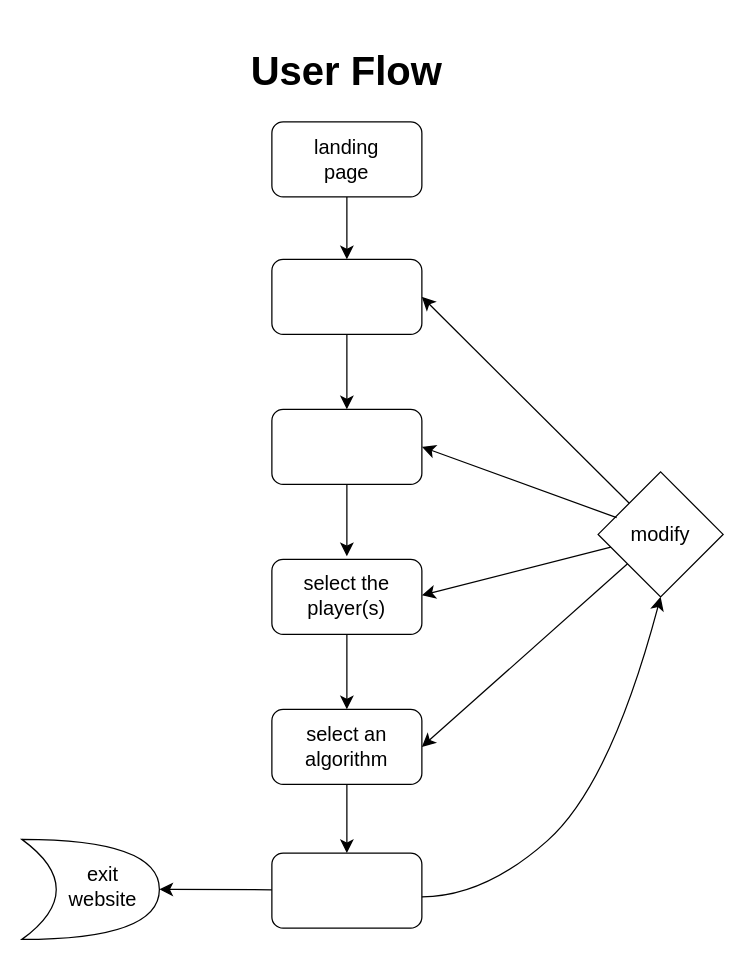
The diagram is 745 pixels wide and 961 high, and some of its shapes have lost their labels. The shapes that lost their labels are listed below. From the top down, each one's centre as x and y in pixels, then its label:
the point at 346,296: select a dataset
the point at 346,446: select a statistic
the point at 346,890: sort the data
